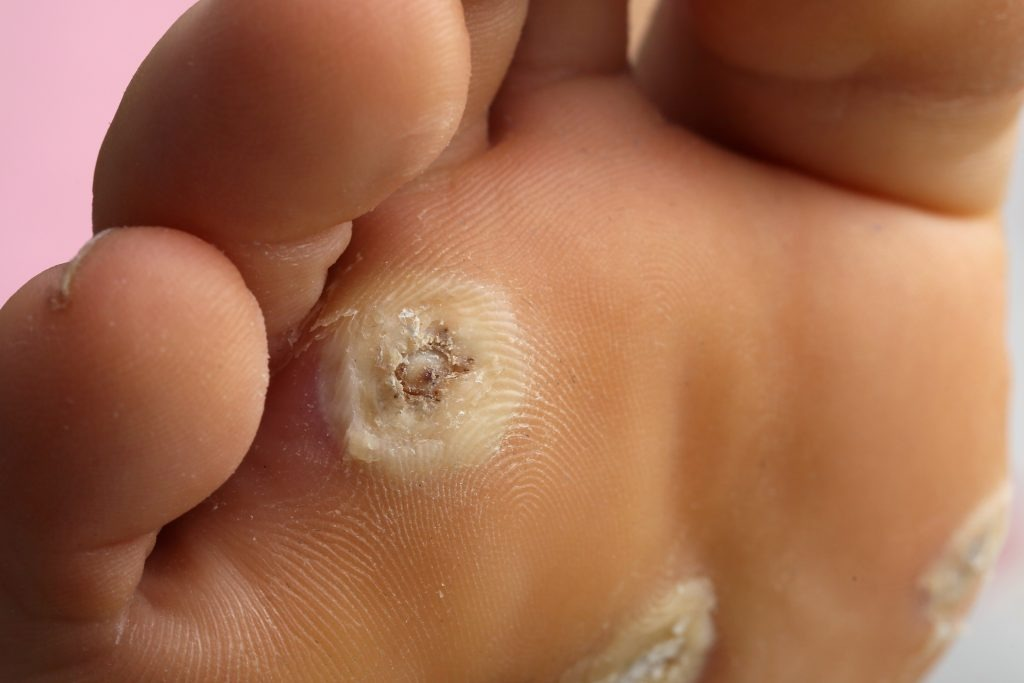Warts: (312, 266, 538, 480)
